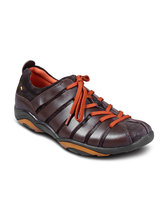shoes: (8, 59, 159, 157)
